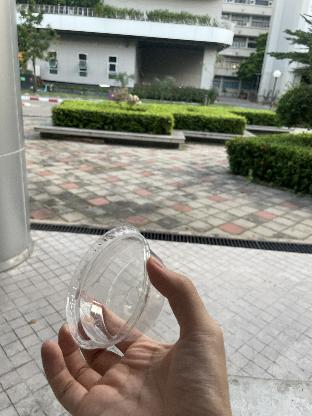Plastic Cup: (66, 223, 168, 351)
